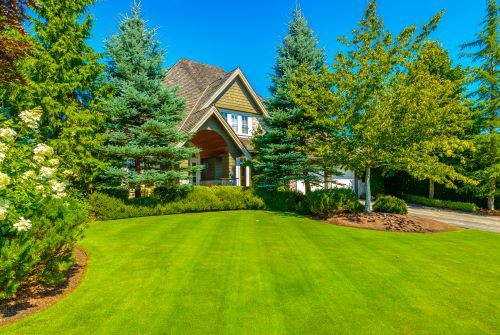bush: (80, 186, 361, 216)
tree: (322, 6, 475, 222), (95, 4, 195, 208), (256, 8, 339, 211)
